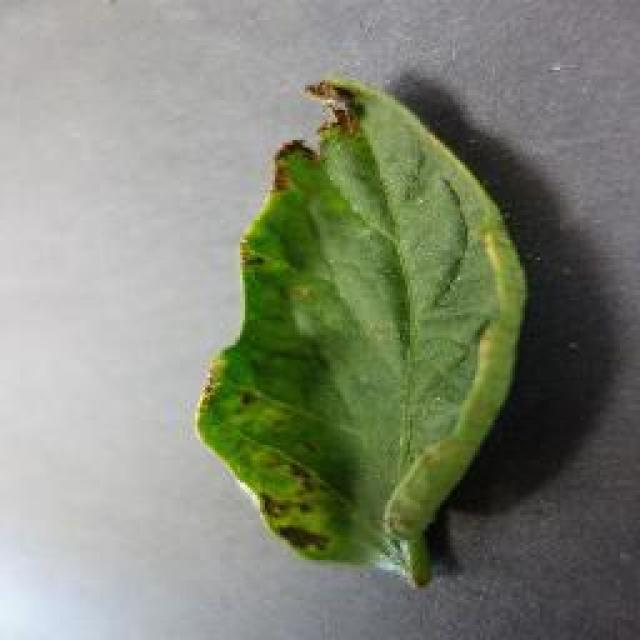Tomato bacterial spot leaf: (199, 80, 526, 592)
